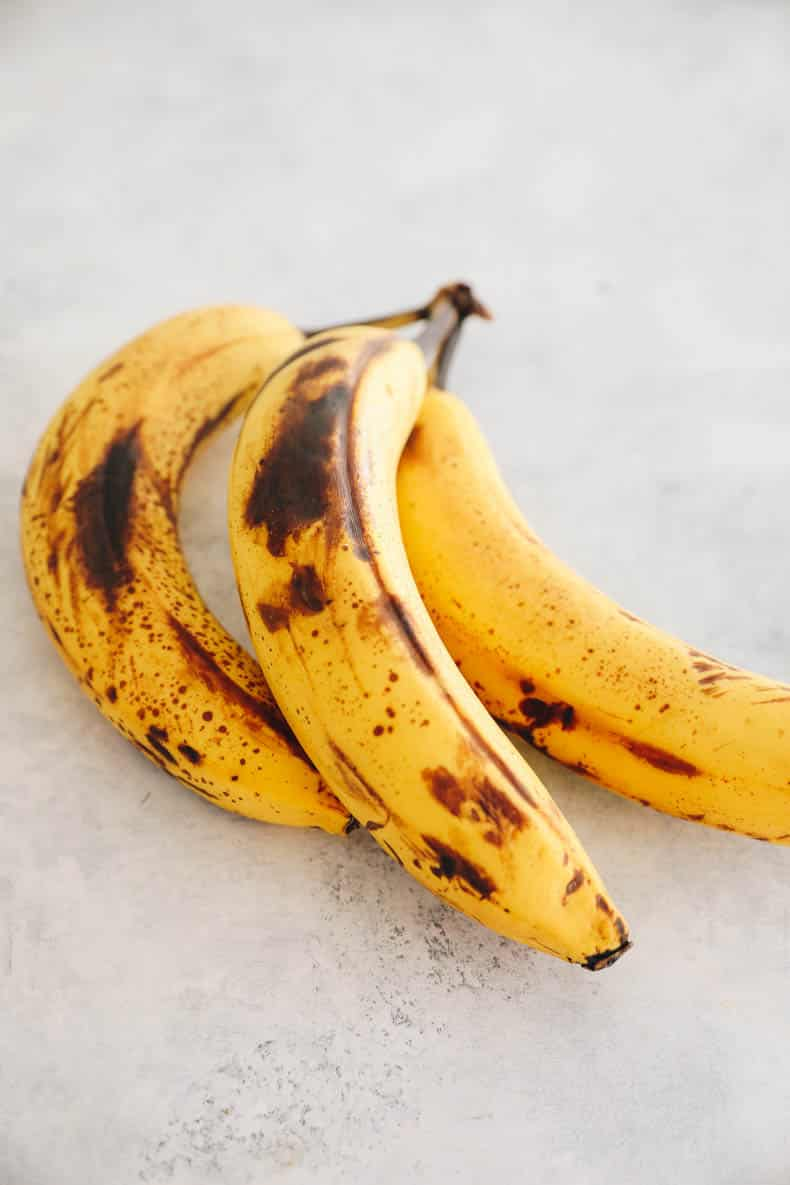banana: (21, 277, 790, 981)
